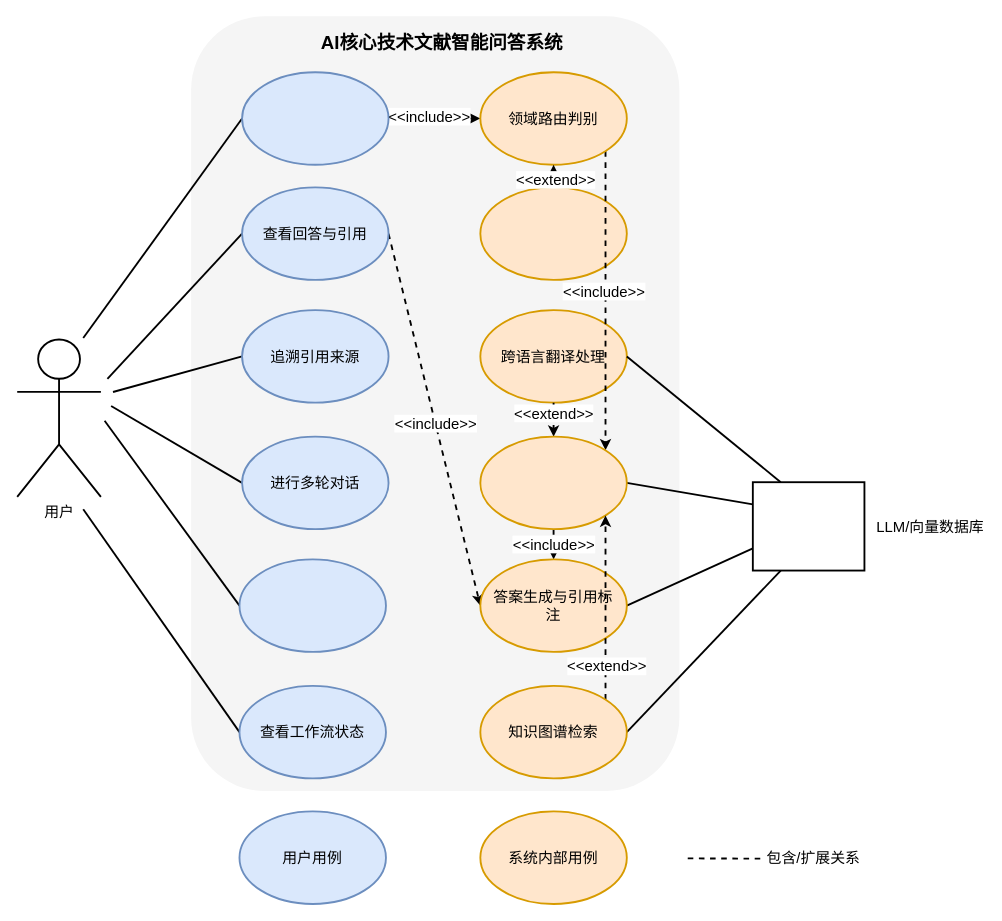
This 1002x921 diagram has some shape labels left out. The shapes that lost their labels are listed below. From the top down, each one's box as (x1, y1, x2, y2) in pixels, then its label:
(241, 71, 389, 165): 提交自然语言问题
(479, 186, 627, 280): 意图澄清交互
(479, 435, 627, 530): 多源知识检索
(751, 481, 865, 571): 外部系统
(238, 558, 386, 652): 切换检索模式
